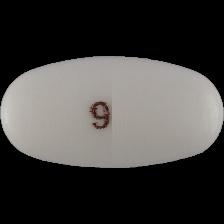13668-096: (0, 0, 224, 224)
